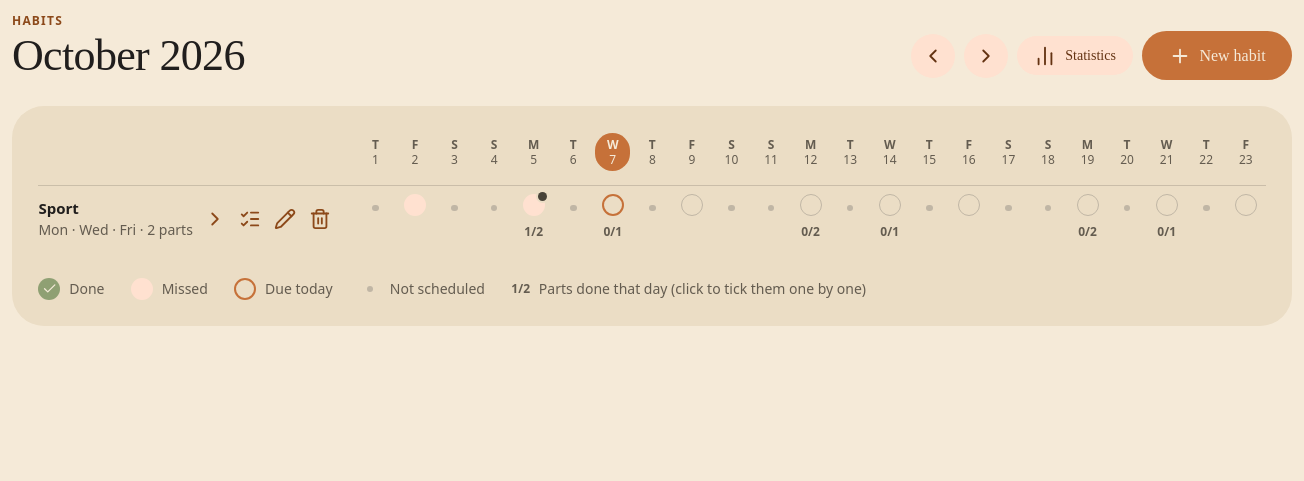
Test case: notes on the parts of a habit › shows the stored note in a field beside the part’s cell, and marks the cell
Check: the table is shown, box x1=38 y1=133 x2=1266 y2=252
Click the button named "Show parts of Sport" at (215, 219), box x1=197 y1=201 x2=232 y2=236
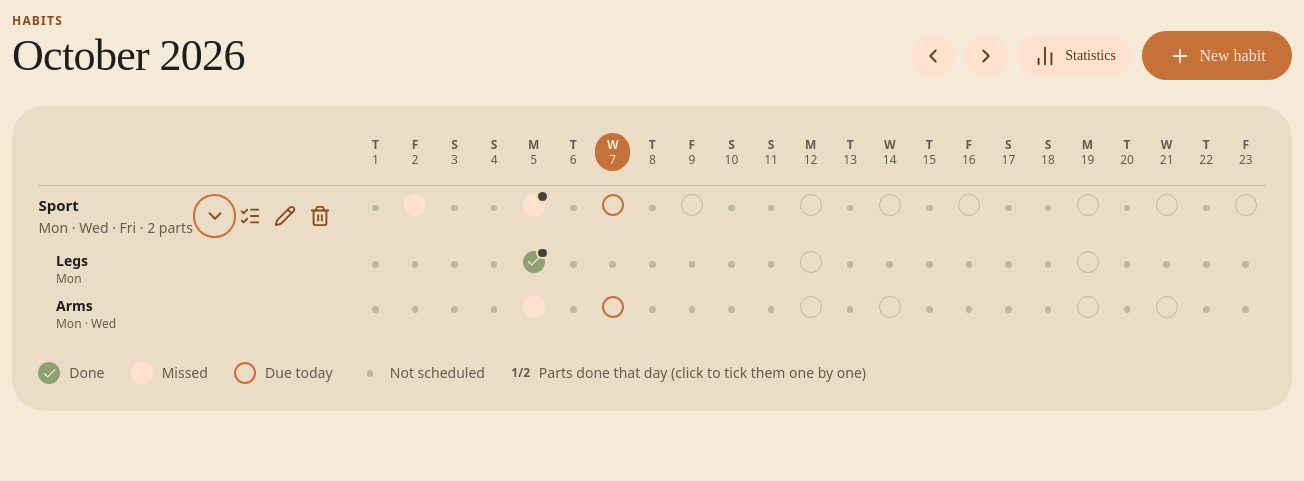
Hover over the button named "Sport: Legs, Mon 5 Oct. Note: 3 x 10, left knee odd" at (534, 262), box x1=523 y1=251 x2=545 y2=273
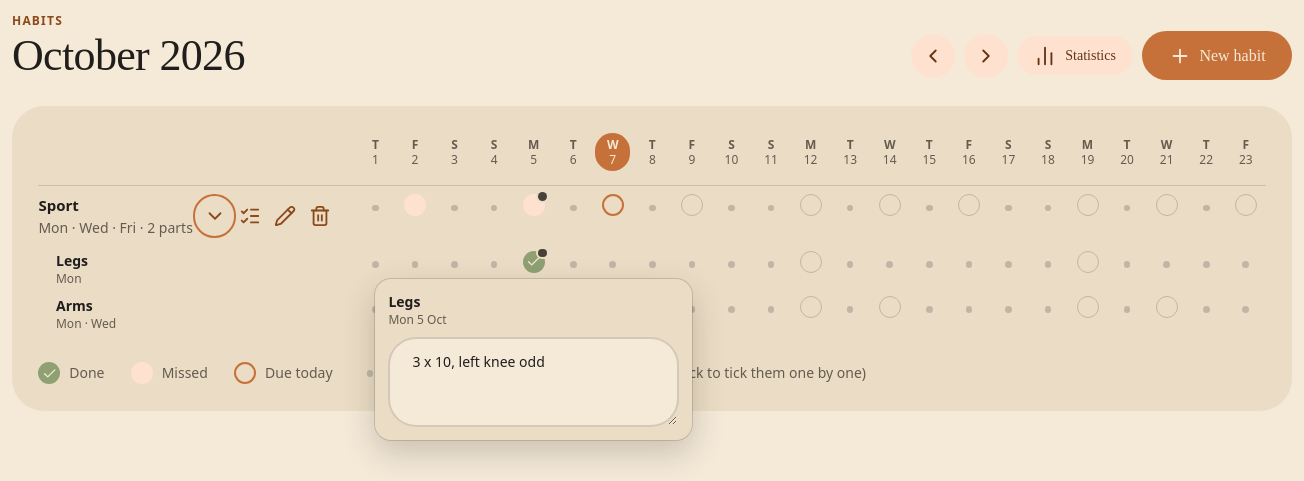
Check: the button named "Sport: Legs, Mon 5 Oct. Note: 3 x 10, left knee odd" is shown, box x1=523 y1=251 x2=545 y2=273
Check: the text box named "Note for Legs, Mon 5 Oct" holds "3 x 10, left knee odd", box x1=388 y1=337 x2=679 y2=427
